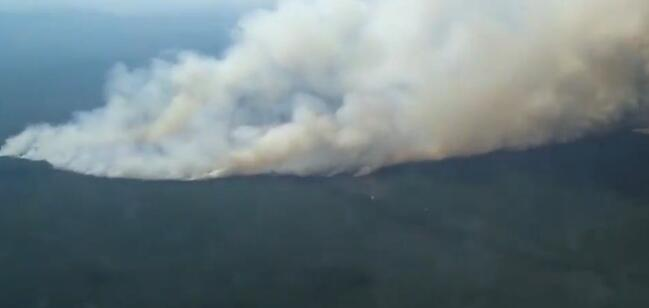smoke: (2, 1, 649, 181)
